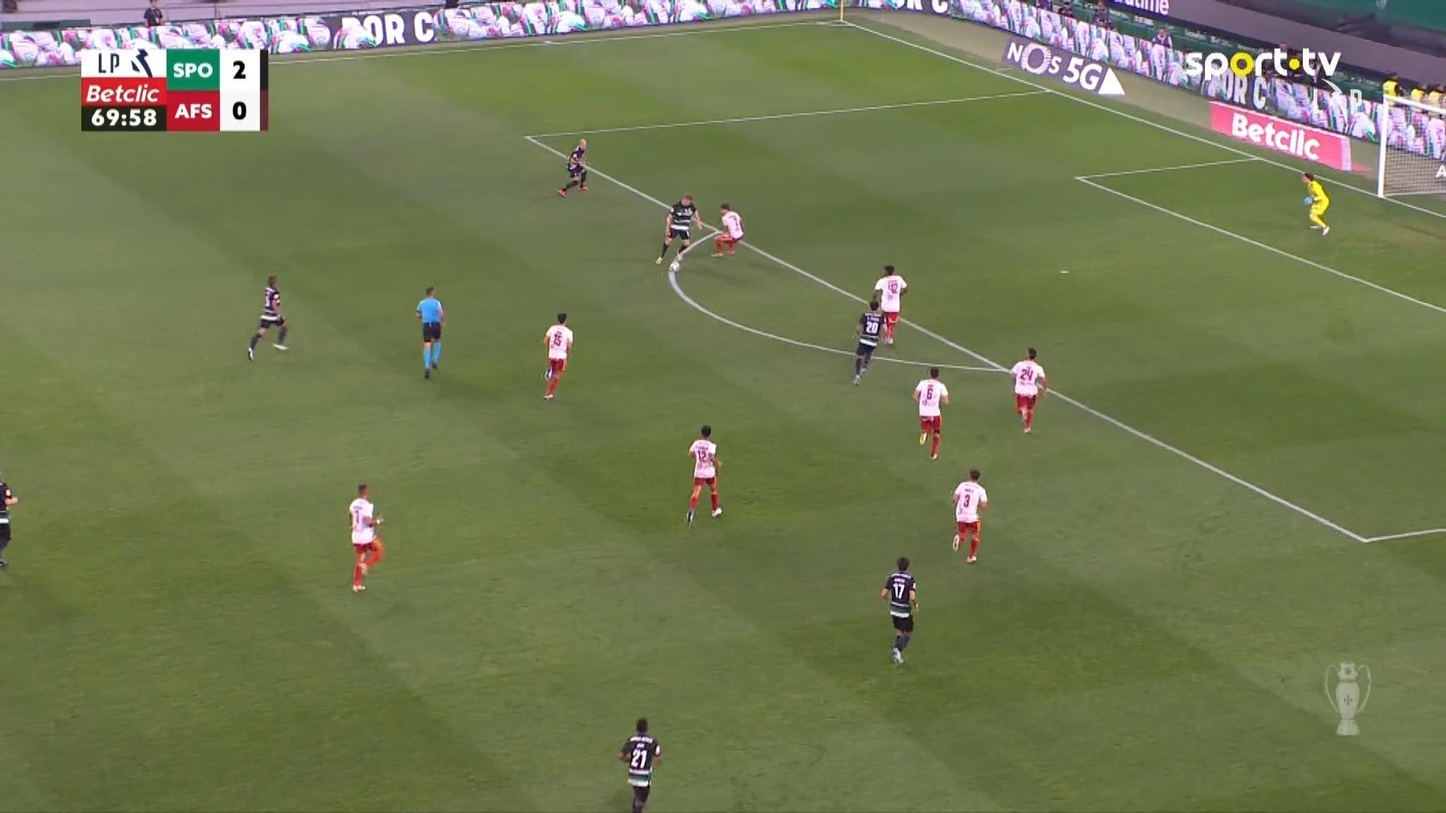goalkeeper: (1301, 170, 1330, 236)
player: (880, 556, 918, 665), (618, 717, 662, 811), (348, 483, 385, 592), (685, 425, 723, 528), (246, 273, 290, 361), (654, 193, 702, 272), (912, 366, 950, 460), (950, 467, 987, 563), (1008, 346, 1048, 434), (871, 263, 908, 346), (541, 312, 573, 400), (852, 300, 884, 385), (557, 137, 589, 197), (710, 202, 744, 257), (0, 473, 17, 568)
referee: (414, 286, 445, 379)
